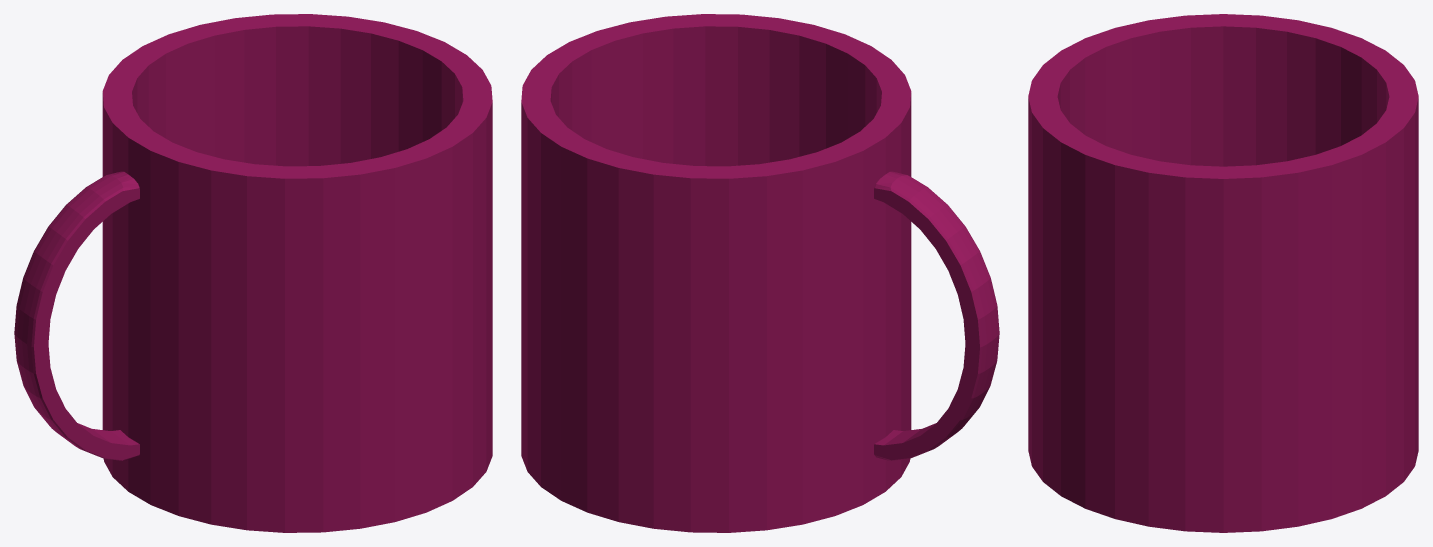
Rendered from mug.glb.
3 renders of one model, left to right at view 1: azimuth 30°, elevation 25°; view 2: azimuth 150°, elevation 25°; view 3: azimuth 270°, elevation 25°, orthographic.
Parts seen in each view (by area): view 1: Cylinder; view 2: Cylinder; view 3: Cylinder.
Boxes of the visible parts, bbox=[...] form: Cylinder: bbox=[14, 14, 492, 532]; Cylinder: bbox=[521, 14, 999, 532]; Cylinder: bbox=[1028, 14, 1418, 532].
Size of the model in its own units: 2.63 by 2 by 2.
